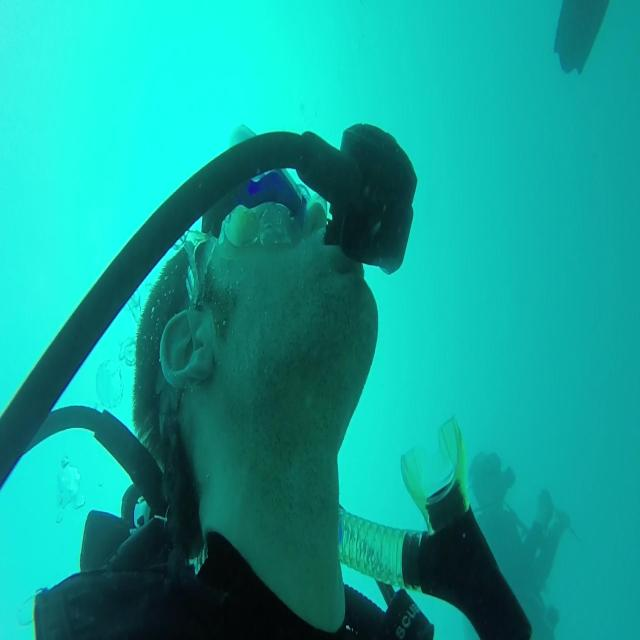human: (28, 120, 533, 638), (466, 448, 572, 638)
